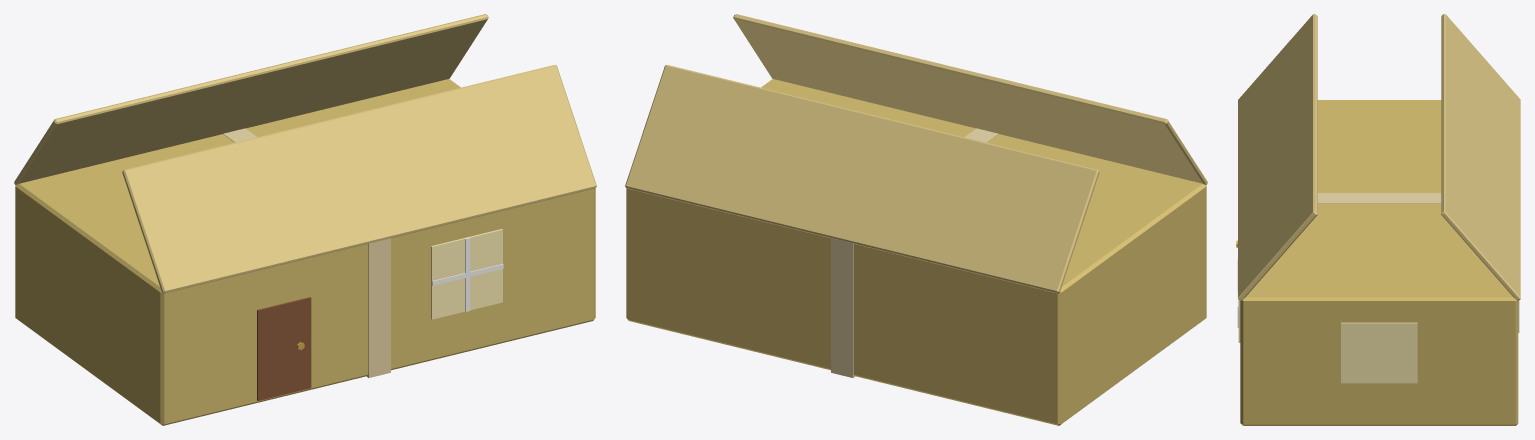
Rendered from rental_family.glb.
The picture shows the model from 3 angles, left to right: view 1: azimuth 30°, elevation 25°; view 2: azimuth 150°, elevation 25°; view 3: azimuth 270°, elevation 25°; orthographic projection. The views are drawn at different scales.
Parts seen in each view (by area): view 1: rental_family_Body; view 2: rental_family_Body; view 3: rental_family_Body.
Part boxes in pixels (x1,y1,x2,y2): rental_family_Body: [14, 14, 596, 425]; rental_family_Body: [625, 14, 1207, 425]; rental_family_Body: [1236, 14, 1520, 425].
Bounding box in the file's own units: 1 × 0.5 × 0.6.
